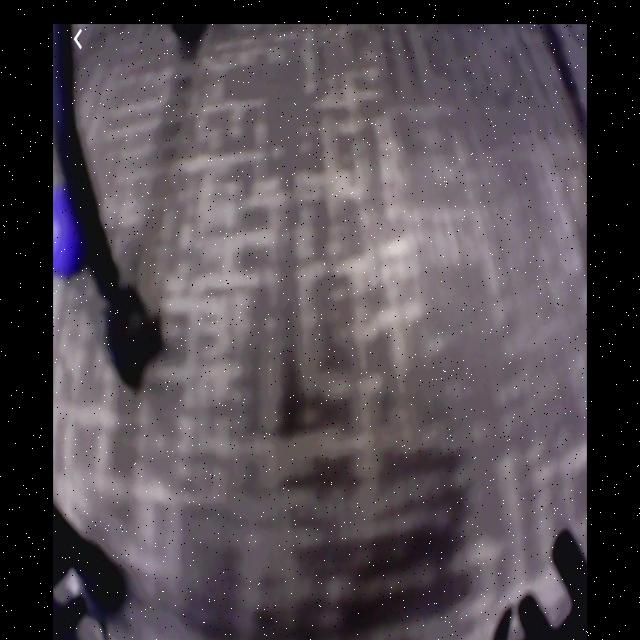ball: (54, 187, 92, 279)
